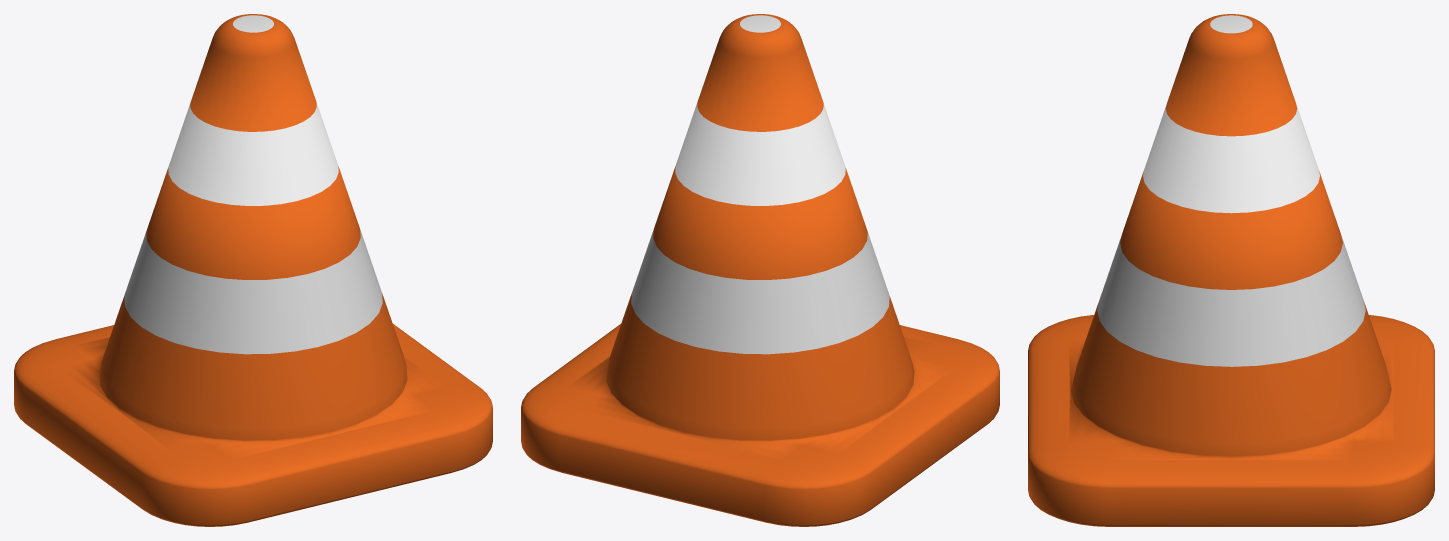
3 renders of one model, left to right at view 1: azimuth 30°, elevation 25°; view 2: azimuth 150°, elevation 25°; view 3: azimuth 270°, elevation 25°, orthographic. The views are drawn at different scales.
Parts seen in each view (by area): view 1: Traffic Cone; view 2: Traffic Cone; view 3: Traffic Cone.
Part boxes in pixels (x1,y1,x2,y2): Traffic Cone: [14, 14, 492, 526]; Traffic Cone: [521, 14, 999, 526]; Traffic Cone: [1028, 14, 1434, 526].
Bounding box in the file's own units: 114 × 132 × 114.
